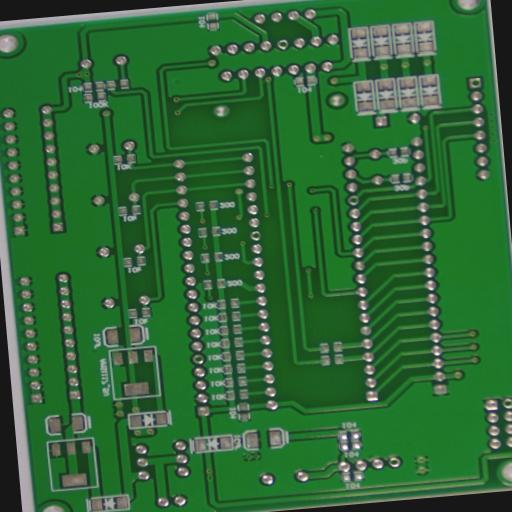missing_hole: (386, 454, 403, 470), (273, 38, 292, 52), (246, 229, 262, 242), (188, 352, 204, 365), (344, 194, 360, 206), (467, 76, 480, 88), (500, 396, 512, 408)
